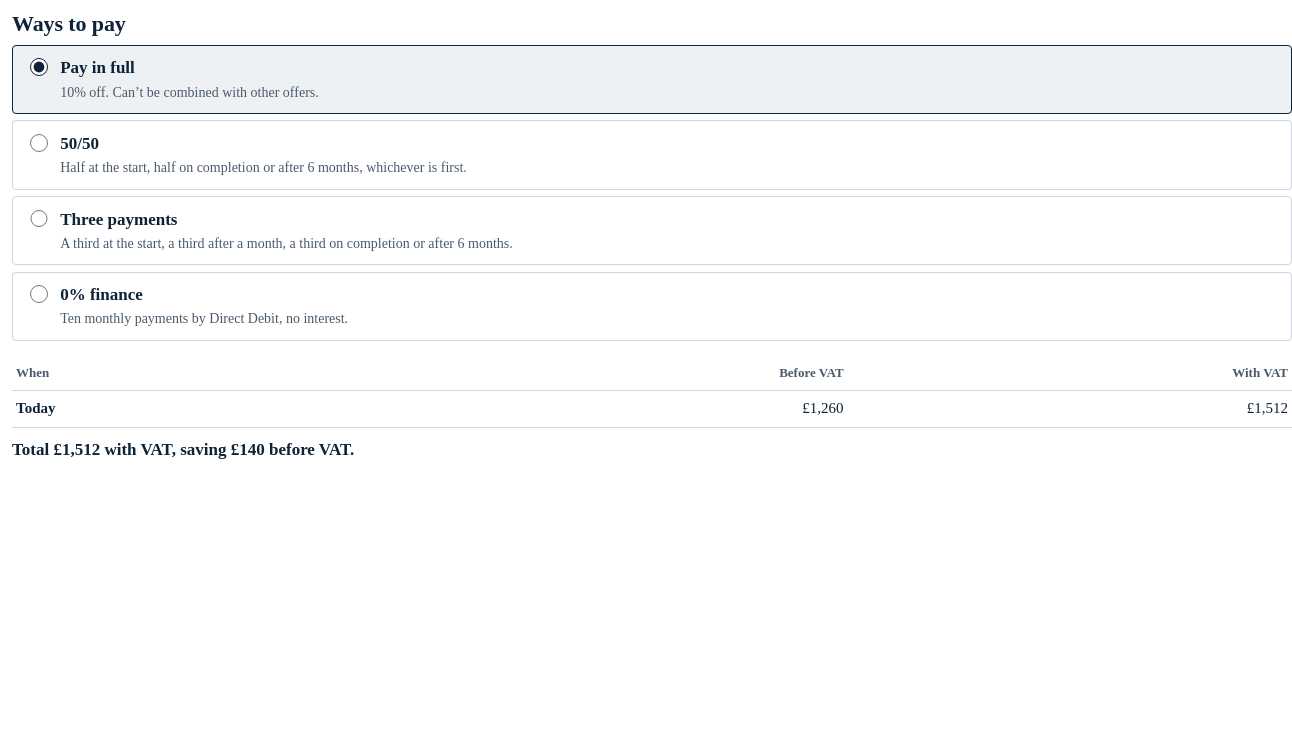
Test: <PaymentPlans /> › works out each plan for the price
Expected: the text "Total £1,512 with VAT, saving £140 before VAT." is shown, [12,440,354,459]
Click the radio button labelled "Three payments" at (39, 218), box [30,210,48,227]
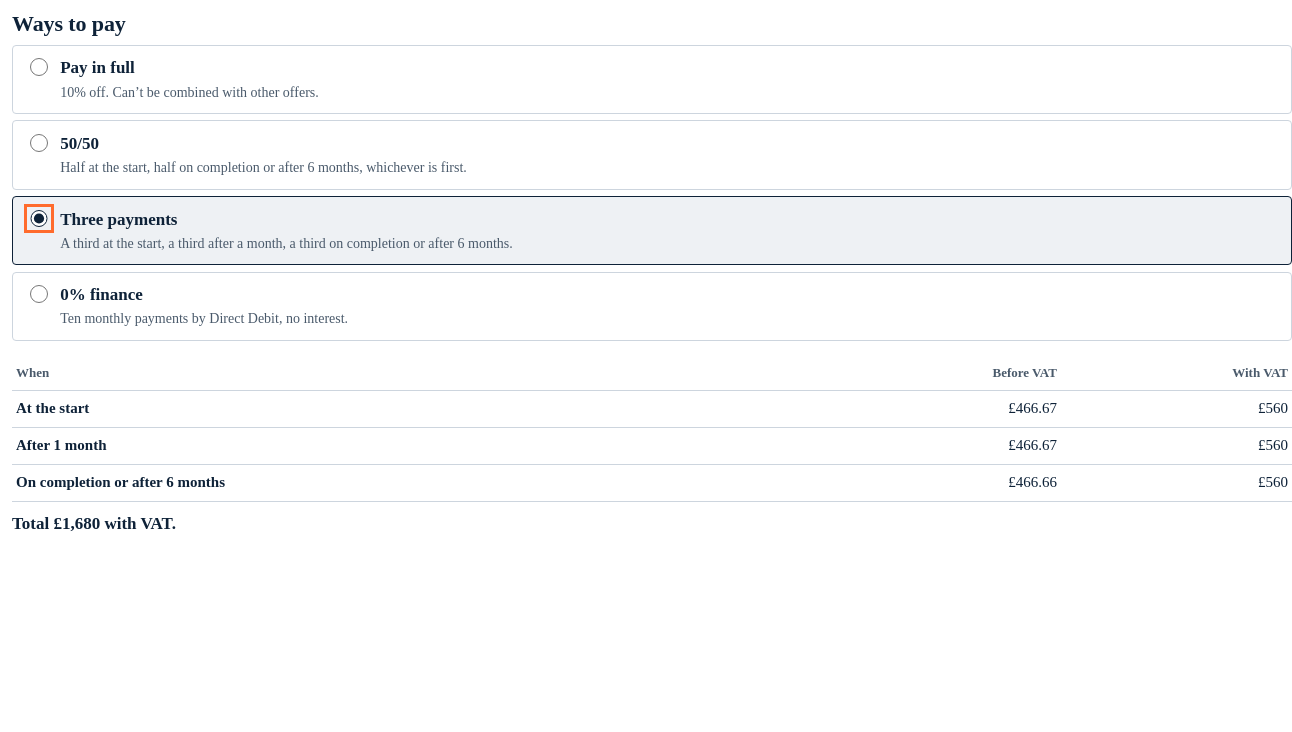
Expected: the number of rows is 4, [12,357,1291,390]; [12,391,1291,427]; [12,427,1291,464]; [12,464,1291,501]
Expected: the text "Total £1,680 with VAT." is shown, [12,514,176,533]
Click the radio button labelled "0% finance" at (39, 294), box [30,285,48,303]
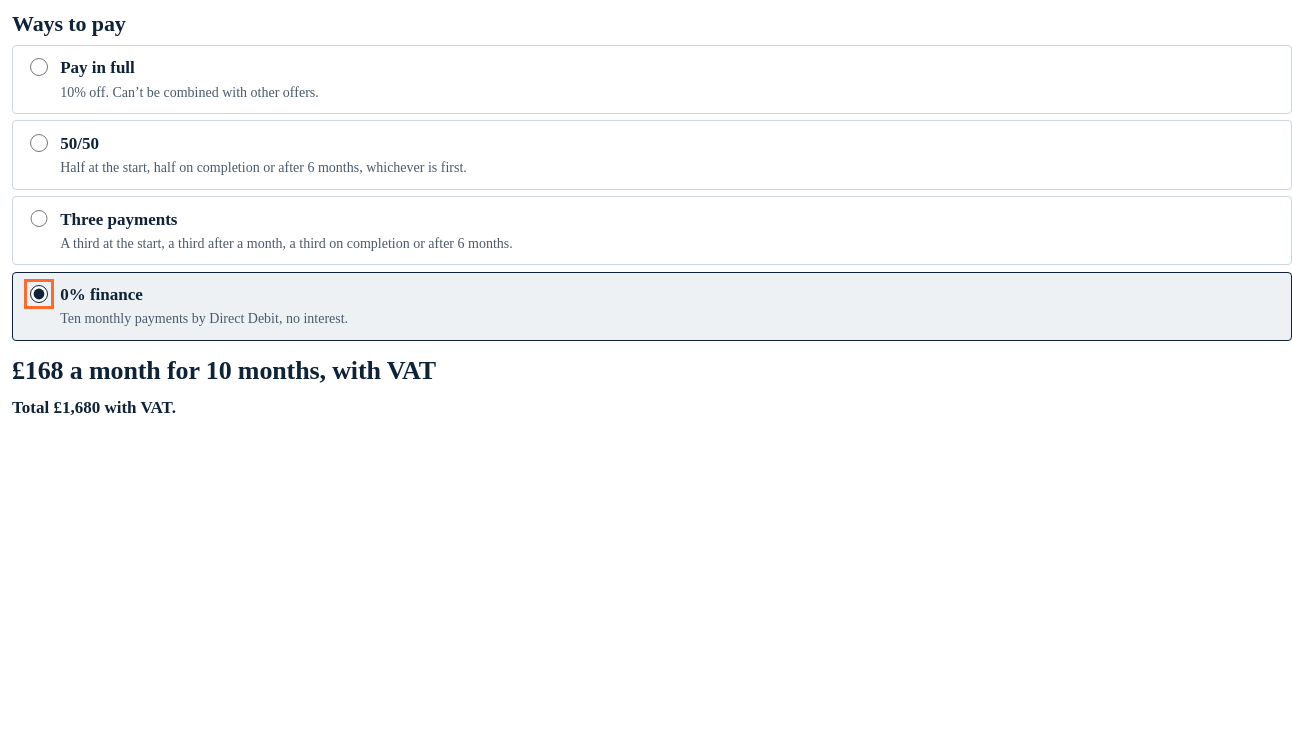
Expected: the text "£168 a month for 10 months, with VAT" is shown, [12,356,436,385]
